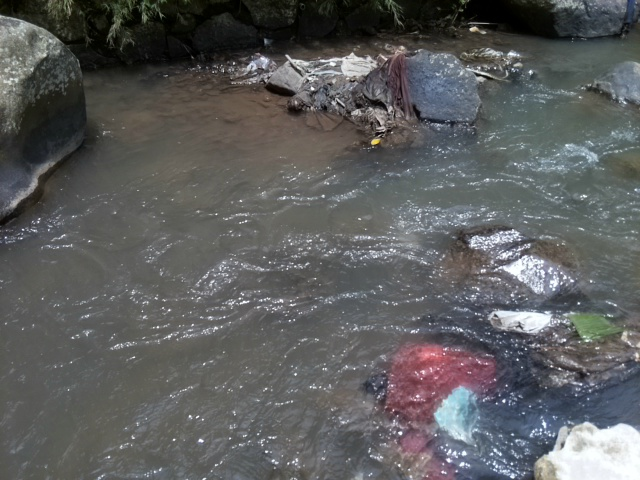Sampah_Plastik: (390, 343, 489, 474)
